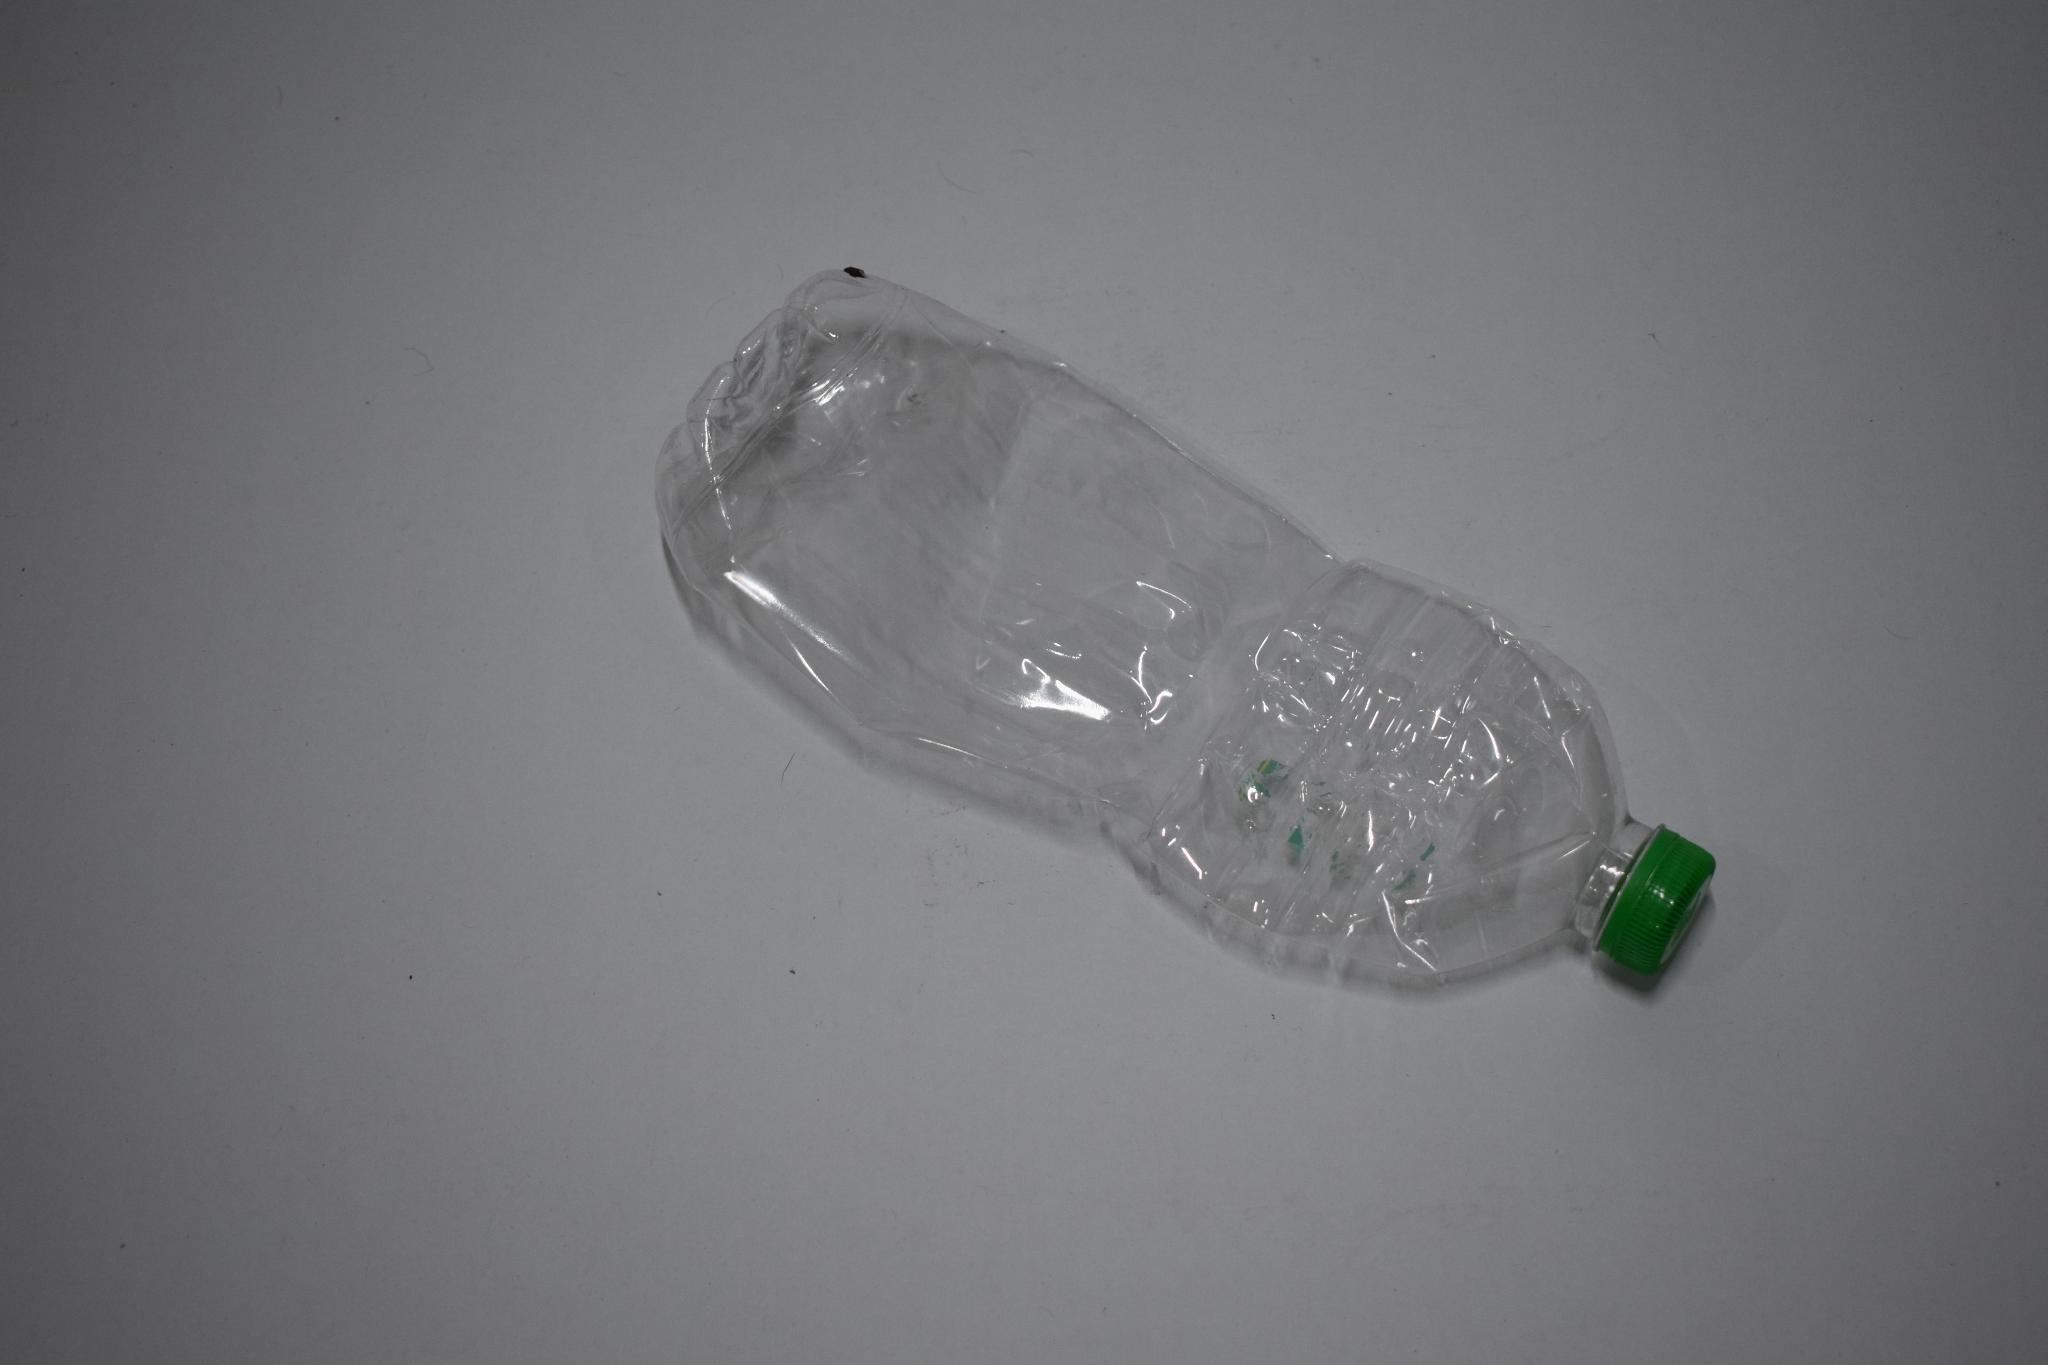bottle: (571, 230, 1763, 1042)
